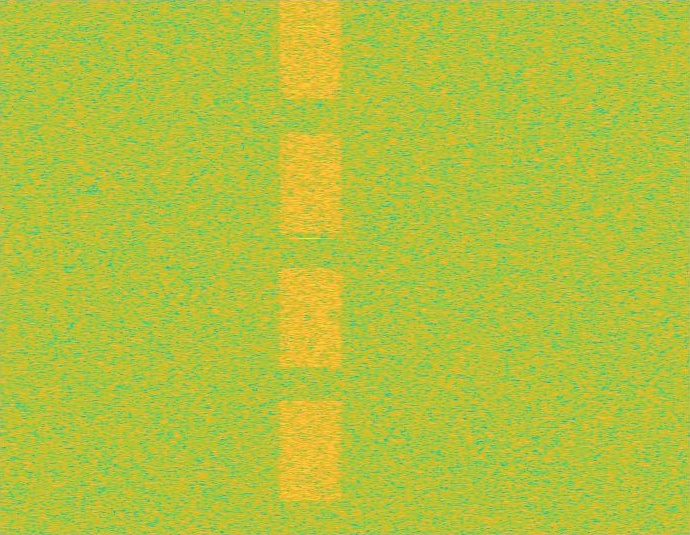5G: (276, 0, 345, 534)
Radar: (303, 0, 317, 534)
